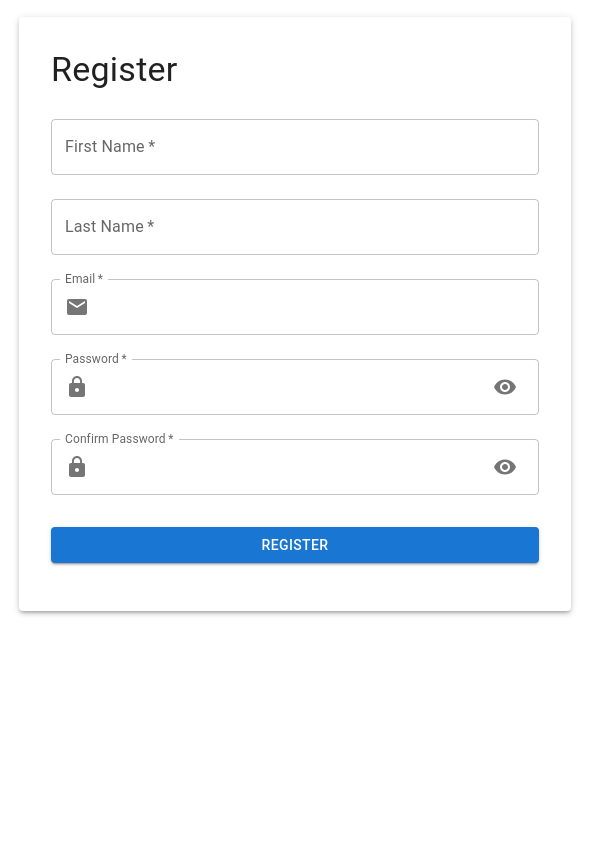
Scenario: Register Page › prevents submission when passwords do not match
The image size is (591, 853).
Note: Fill form with mismatched passwords
Type "John" into the field with id "firstName".
click(295, 147); type("John")  # box [51,119,539,175]
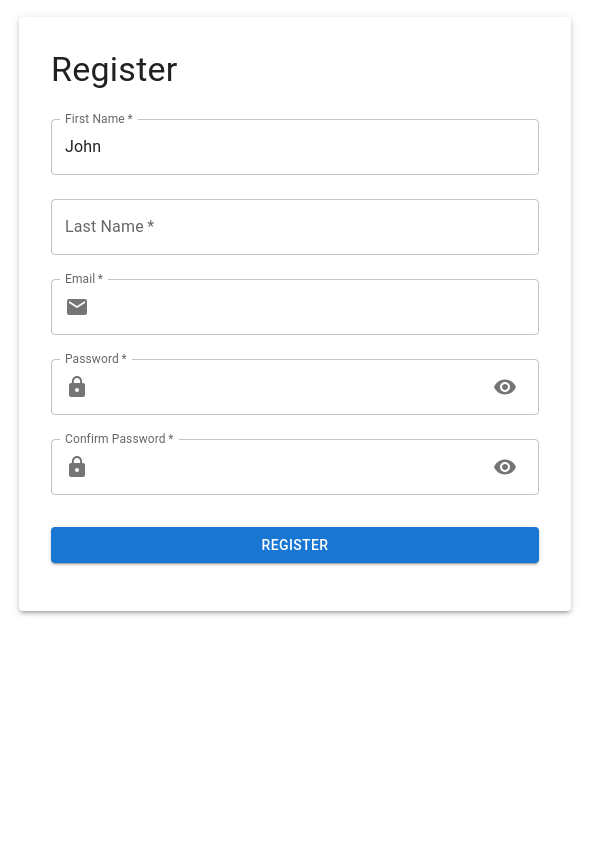
Type "Doe" into the field with id "lastName".
click(295, 227); type("Doe")  # box [51,199,539,255]
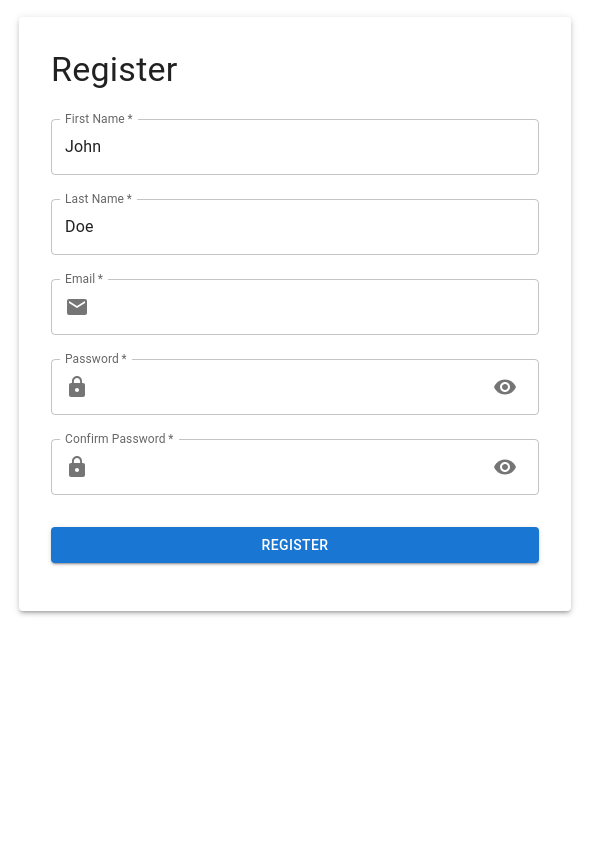
Type "john@example.com" into the field with id "email".
click(318, 307); type("john@example.com")  # box [97,279,539,335]
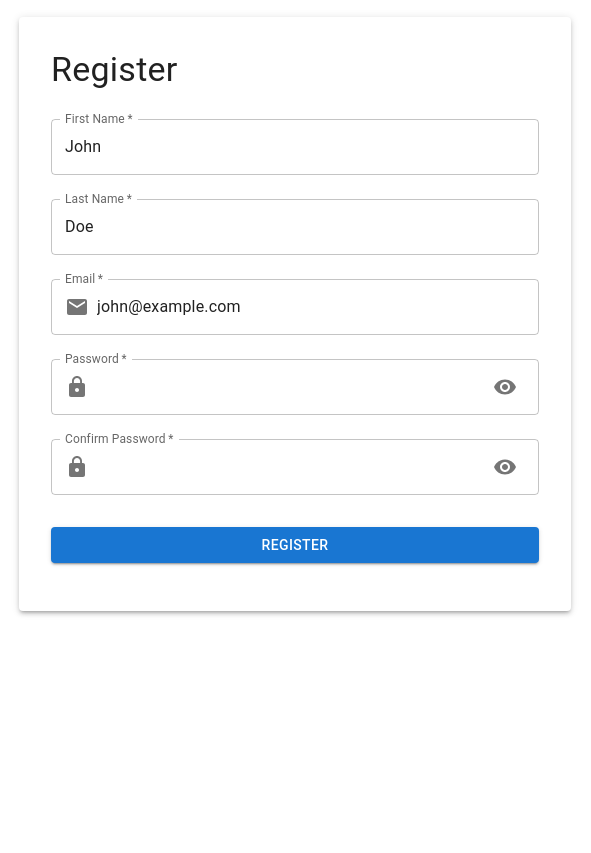
Type "Test123@" into the password field labelled "Password *".
click(287, 387); type("Test123@")  # box [97,359,477,415]
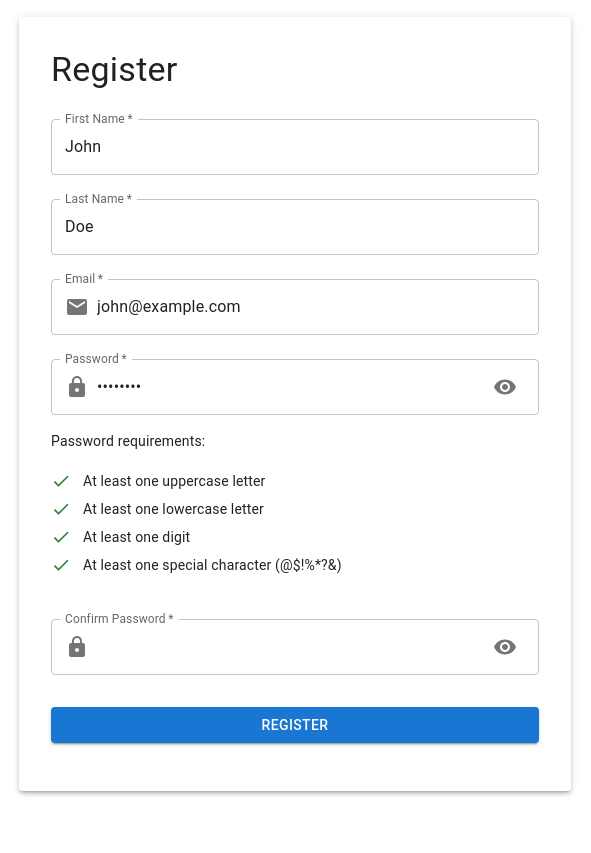
Type "Different123@" into the password field with id "confirmPassword".
click(287, 647); type("Different123@")  # box [97,619,477,675]
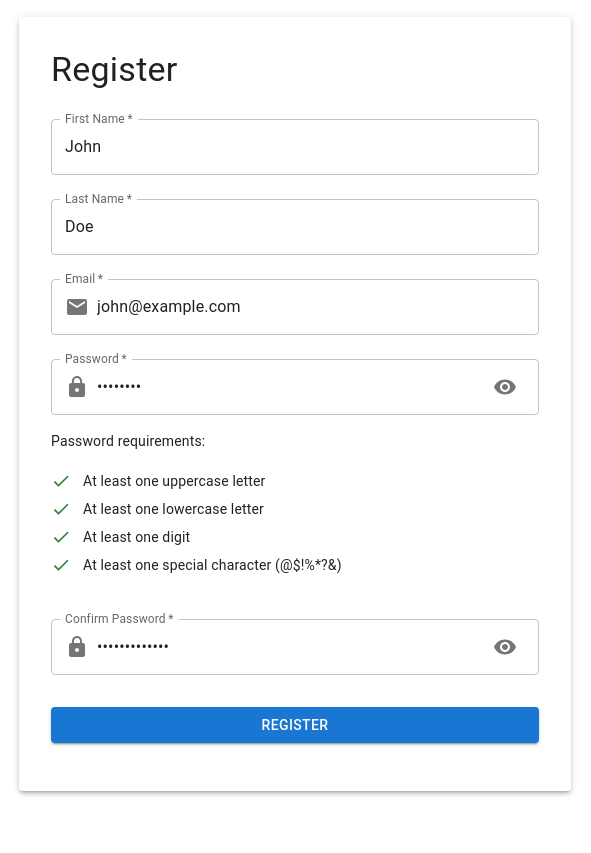
Click the button "Register".
click(295, 725)  # box [51,707,539,744]
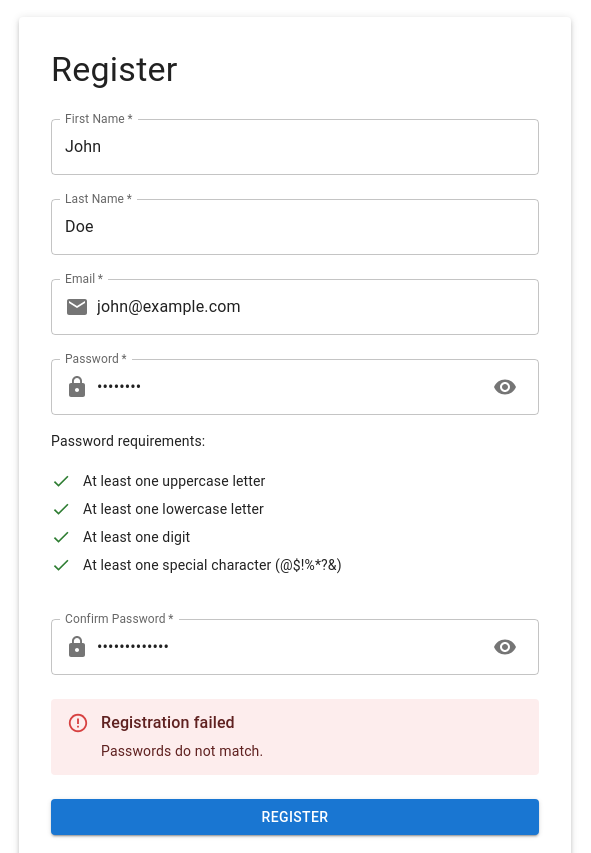
Expected: the text "Passwords do not match." is shown, [101,742,263,758]
